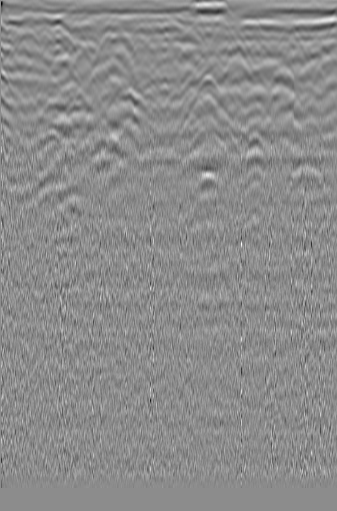상수: (265, 64, 300, 97)
오수: (0, 43, 20, 78)
우수: (138, 72, 174, 104)
